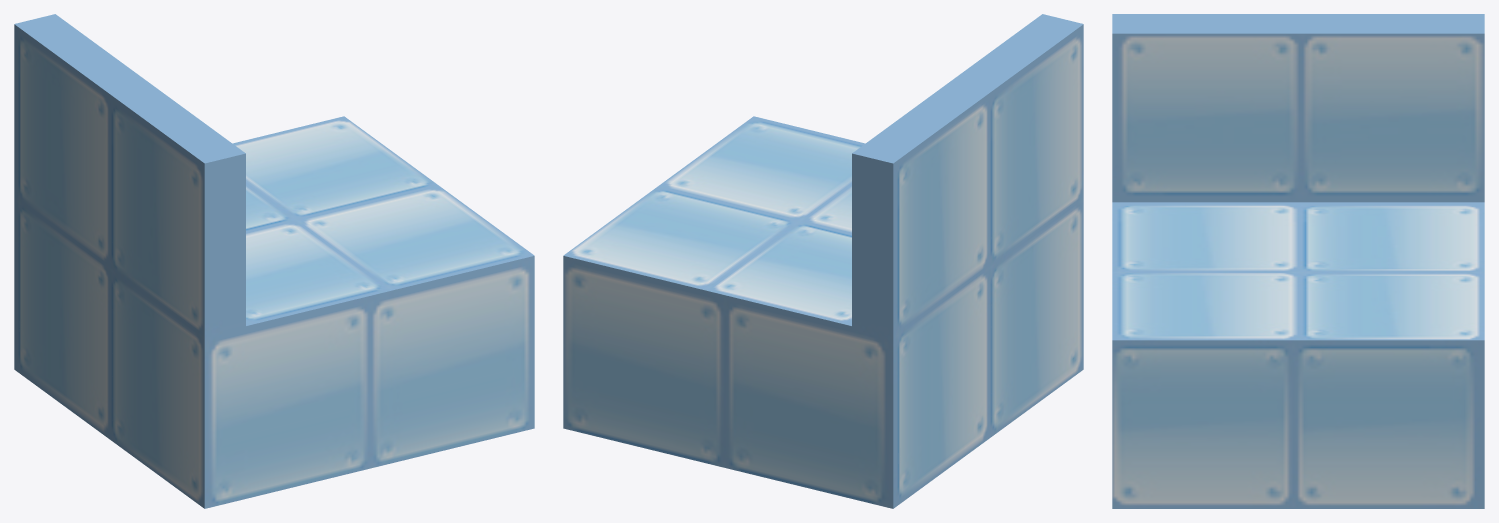
Rendered from dangerfloor1a.FBX.
3 views of the same model, side by side, from view 1: azimuth 30°, elevation 25°; view 2: azimuth 150°, elevation 25°; view 3: azimuth 270°, elevation 25° (orthographic). The views are drawn at different scales.
Visible parts, largest first — view 1: dangerfloor1a; view 2: dangerfloor1a; view 3: dangerfloor1a.
Part boxes in pixels (x1=…): dangerfloor1a: x1=14, y1=14, x2=534, y2=508; dangerfloor1a: x1=563, y1=14, x2=1083, y2=508; dangerfloor1a: x1=1112, y1=14, x2=1484, y2=508.
Bounding box in the file's own units: 39.37 × 39.37 × 39.37.
Materials: 1 (1 with a texture image).
